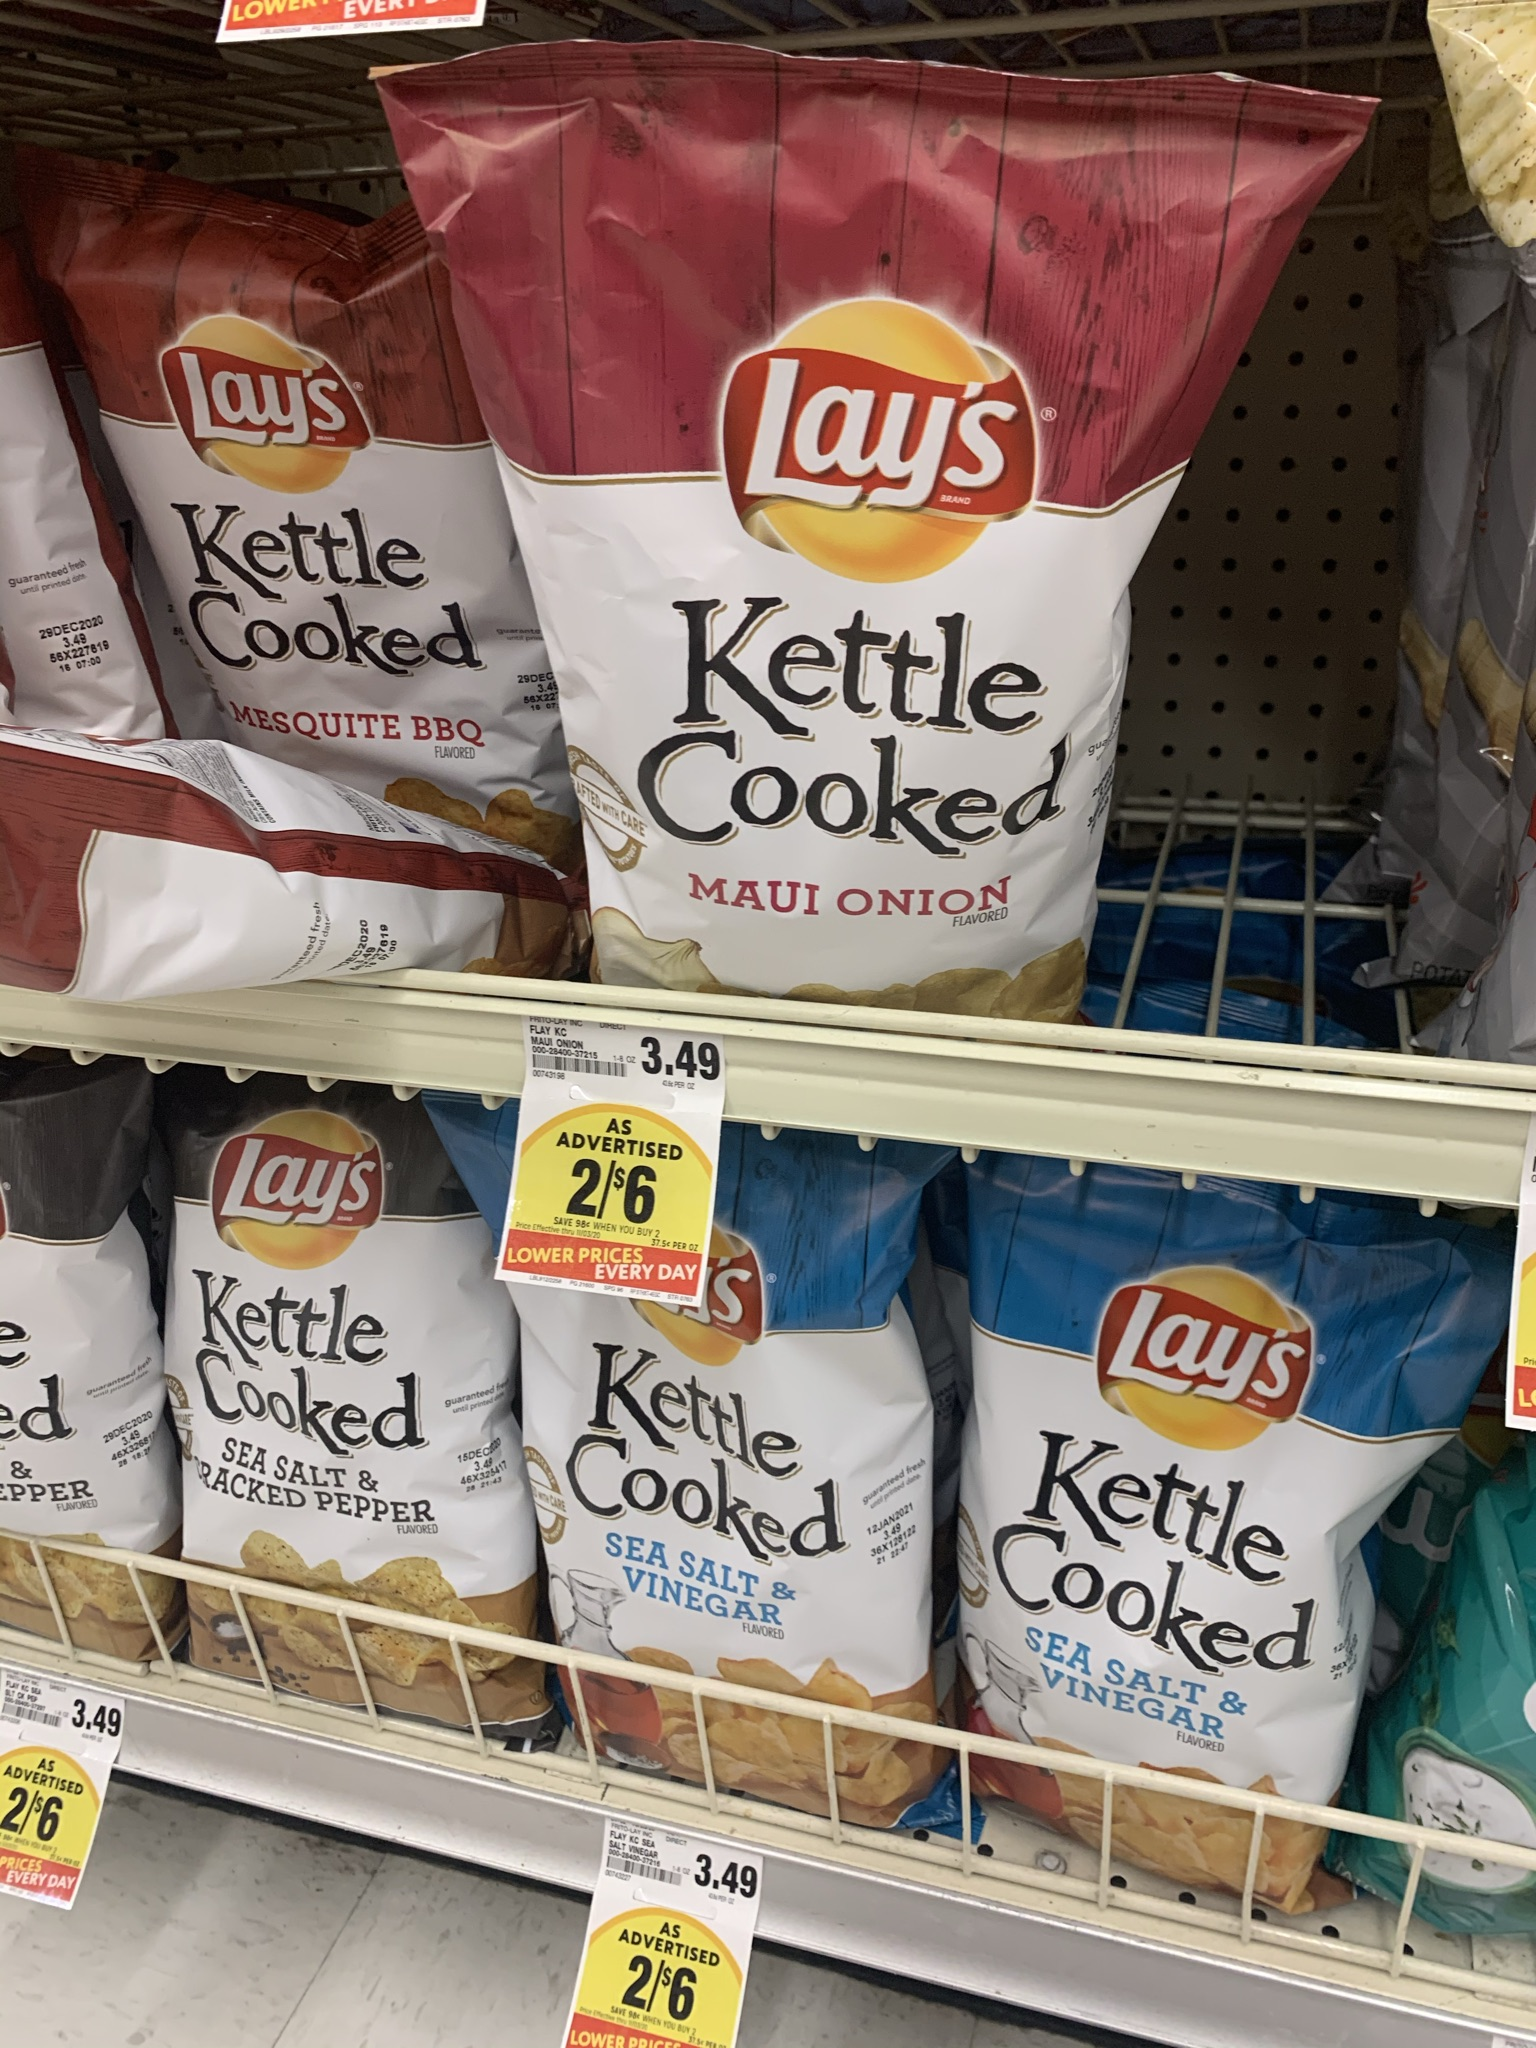lays: (415, 97, 1113, 992), (74, 211, 561, 885), (987, 1161, 1375, 1869), (192, 1116, 552, 1751), (578, 1143, 925, 1788)
